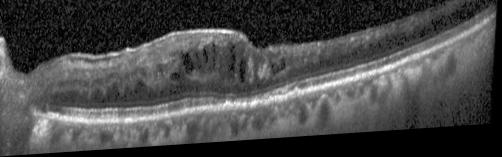intraretinal_cyst: (182, 54, 196, 77), (272, 62, 287, 78), (240, 63, 247, 86), (230, 58, 236, 76), (196, 56, 202, 72), (203, 51, 209, 66), (171, 75, 180, 84), (230, 48, 237, 56), (213, 60, 217, 72), (212, 47, 217, 56)
